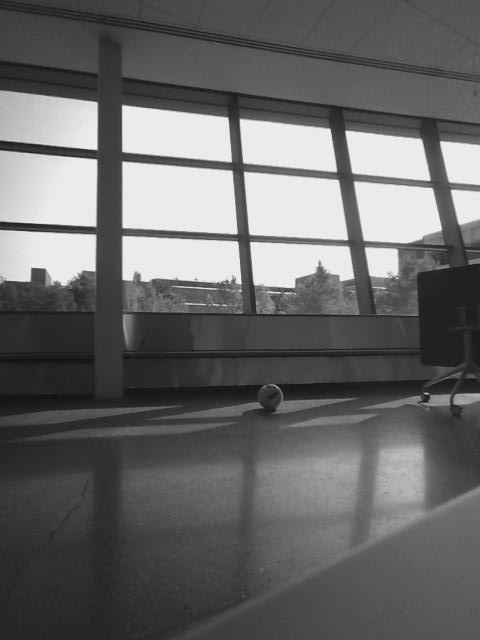ball: (254, 382, 285, 414)
